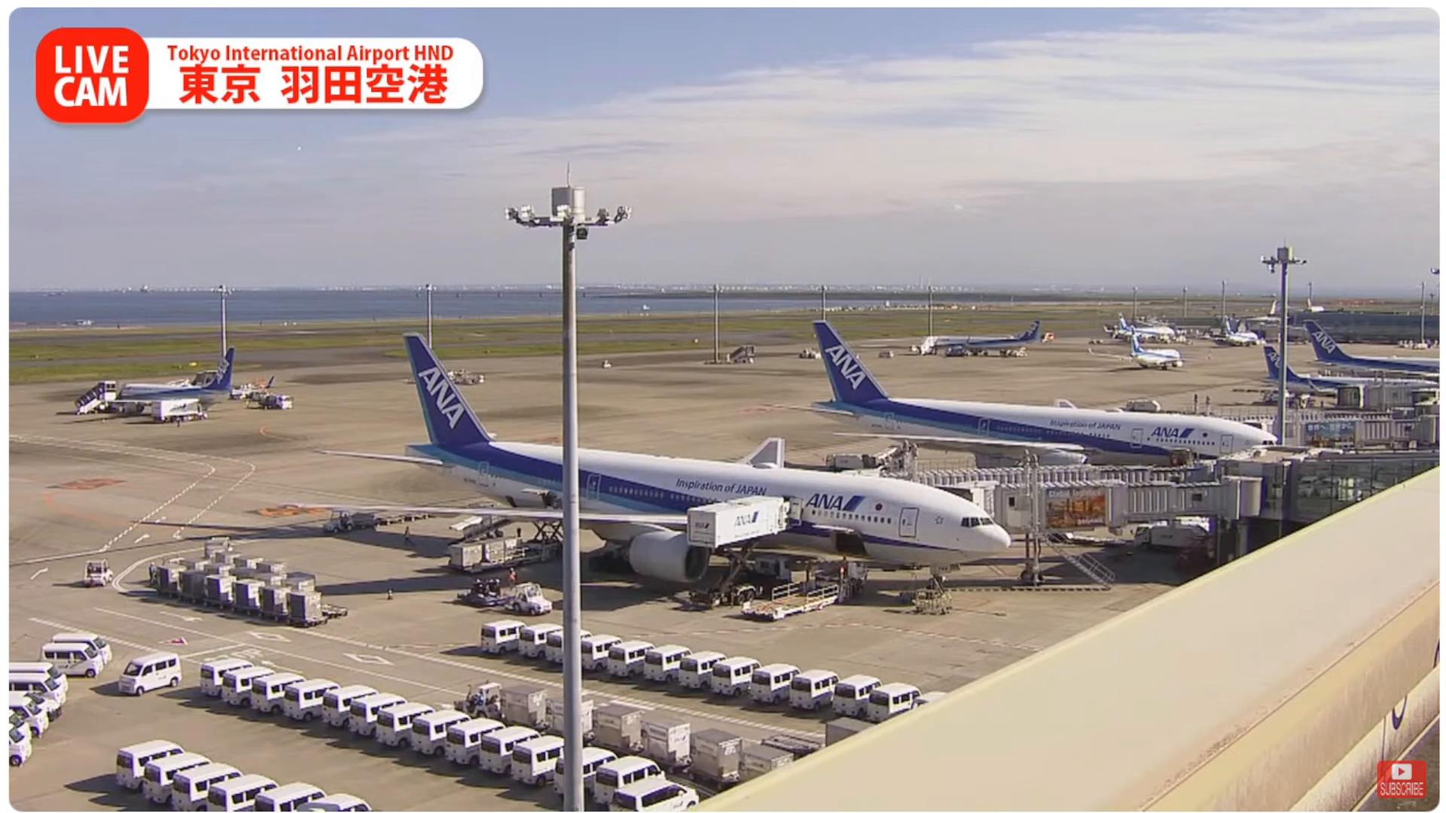Aerobridge: (956, 480, 1243, 535), (885, 461, 1213, 481)
Airplane: (290, 330, 1014, 584)
Catering: (686, 492, 793, 609)
Dolly: (512, 703, 775, 785), (154, 589, 322, 617), (451, 573, 513, 616)
JCPL: (749, 569, 868, 620), (496, 509, 584, 563)
Skyloader: (456, 497, 533, 560)
Tractor: (461, 674, 509, 720), (513, 579, 555, 620)
Window: (1270, 448, 1442, 536)
